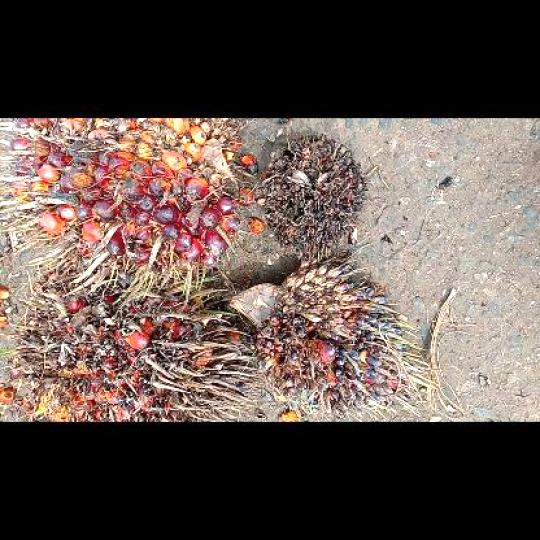masak: (6, 120, 242, 276)
terlalu masak: (3, 272, 256, 421)
